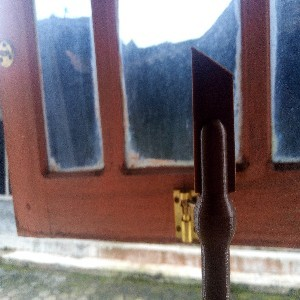cutter: (190, 44, 238, 300)
